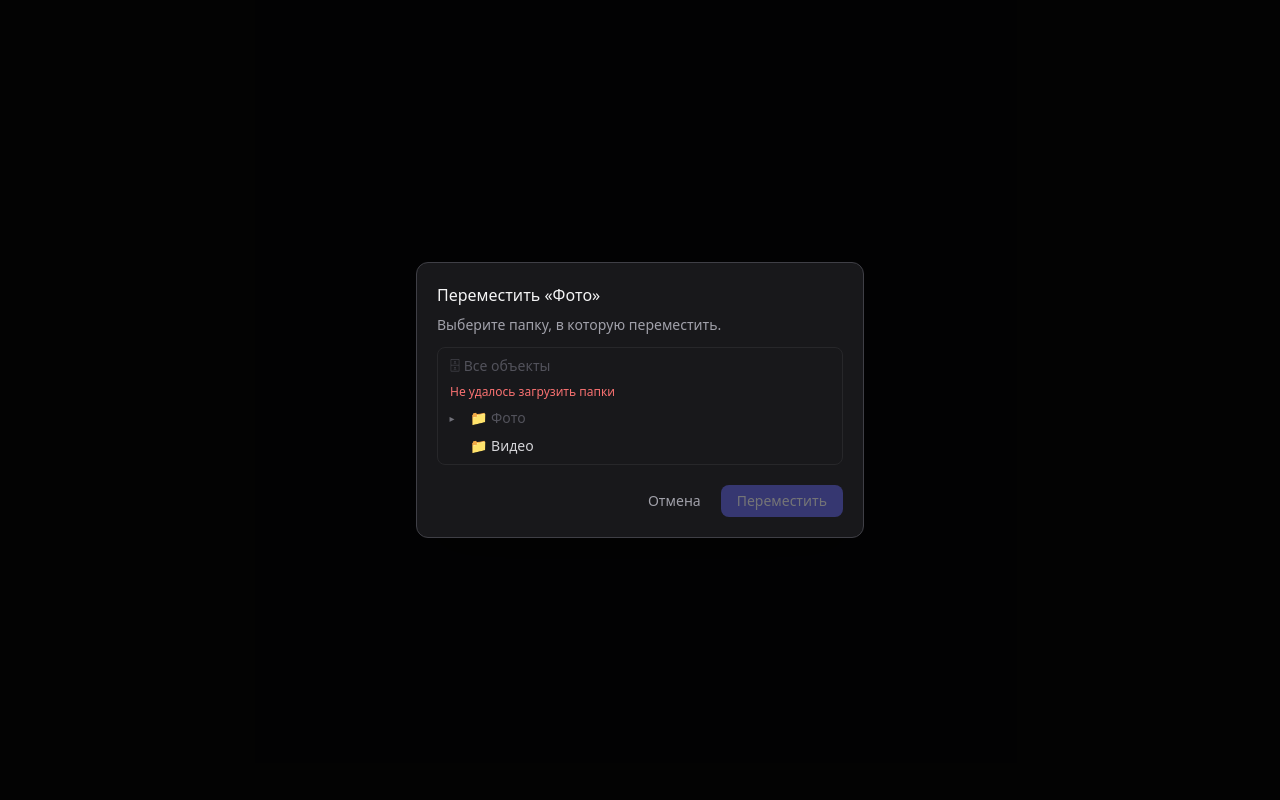
Scenario: MoveDialog › сама перемещаемая папка и её подпапки недоступны
Expected: the button "📁 Фото" is disabled, 462,404 -> 838,432
What coordinates should you click on to do the following:
click the button named "Развернуть"
I would click on:
 (452, 418)
Its box is 442,410 -> 462,426.
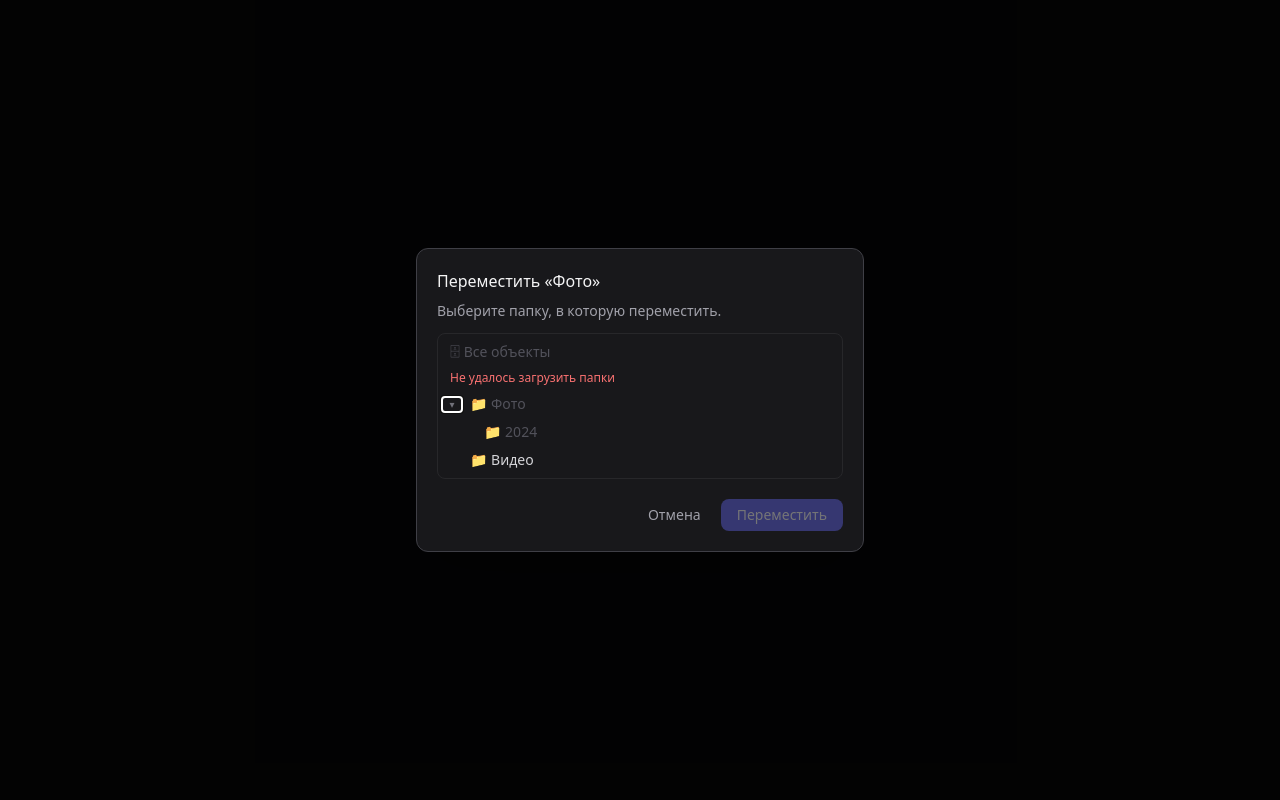
Expected: the button "📁 Видео" is enabled, 462,446 -> 838,474
Now the button "📁 2024" is disabled, box 476,418 -> 838,446
